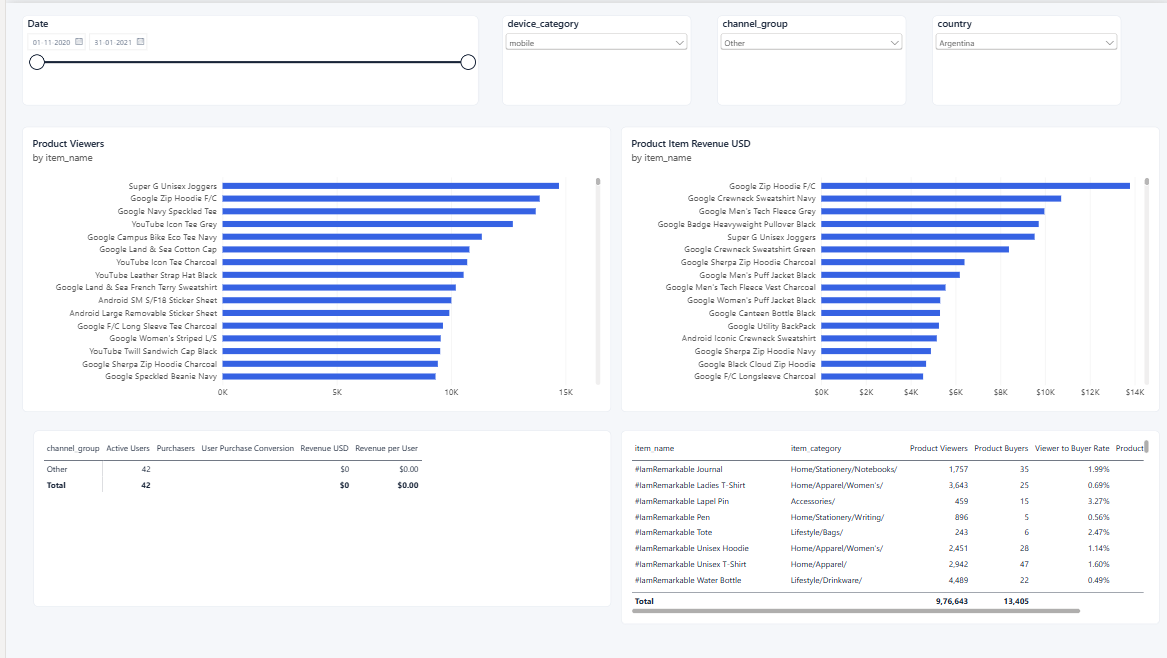

The page's visual inventory and layout, read from the dashboard file:
{"tool":"powerbi","page":{"name":"Products and acquisition","canvas":[1920,1080],"ordinal":3},"visuals":[{"type":"slicer","fields":{"Values":["dim_date.Date"]},"box":[8,4,310,62],"z":0},{"type":"slicer","fields":{"Values":["dim_user.device_category"]},"box":[324,4,310,62],"z":1000},{"type":"slicer","fields":{"Values":["dim_user.channel_group"]},"box":[640,4,310,62],"z":2000},{"type":"slicer","fields":{"Values":["dim_user.country"]},"box":[956,4,310,62],"z":3000},{"type":"barChart","fields":{"Category":["product_performance.item_name"],"Y":["_Measures.Product Viewers"]},"box":[8,74,628,300],"z":3001},{"type":"barChart","fields":{"Category":["product_performance.item_name"],"Y":["_Measures.Product Item Revenue USD"]},"box":[644,74,628,300],"z":3002},{"type":"pivotTable","fields":{"Rows":["dim_user.channel_group"],"Values":["_Measures.Active Users","_Measures.Purchasers","_Measures.User Purchase Conversion","_Measures.Revenue USD","_Measures.Revenue per User"]},"box":[8,384,628,320],"z":3003},{"type":"tableEx","fields":{"Values":["product_performance.item_name","product_performance.item_category","_Measures.Product Viewers","_Measures.Product Buyers","_Measures.Viewer to Buyer Rate","_Measures.Product Item Revenue USD"]},"box":[644,384,628,320],"z":3004}]}

Visuals, with their boxes in screenshot pixels (x1, y1, x2, y2), scaled from the page's 1920x1080 canvas onto the 1167x658 screenshot:
slicer - dim_date.Date: bbox(5, 2, 193, 40)
slicer - dim_user.device_category: bbox(197, 2, 385, 40)
slicer - dim_user.channel_group: bbox(389, 2, 577, 40)
slicer - dim_user.country: bbox(581, 2, 769, 40)
barChart - product_performance.item_name x _Measures.Product Viewers: bbox(5, 45, 387, 228)
barChart - product_performance.item_name x _Measures.Product Item Revenue USD: bbox(391, 45, 773, 228)
pivotTable - dim_user.channel_group x _Measures.Active Users: bbox(5, 234, 387, 429)
tableEx - product_performance.item_name x product_performance.item_category: bbox(391, 234, 773, 429)
